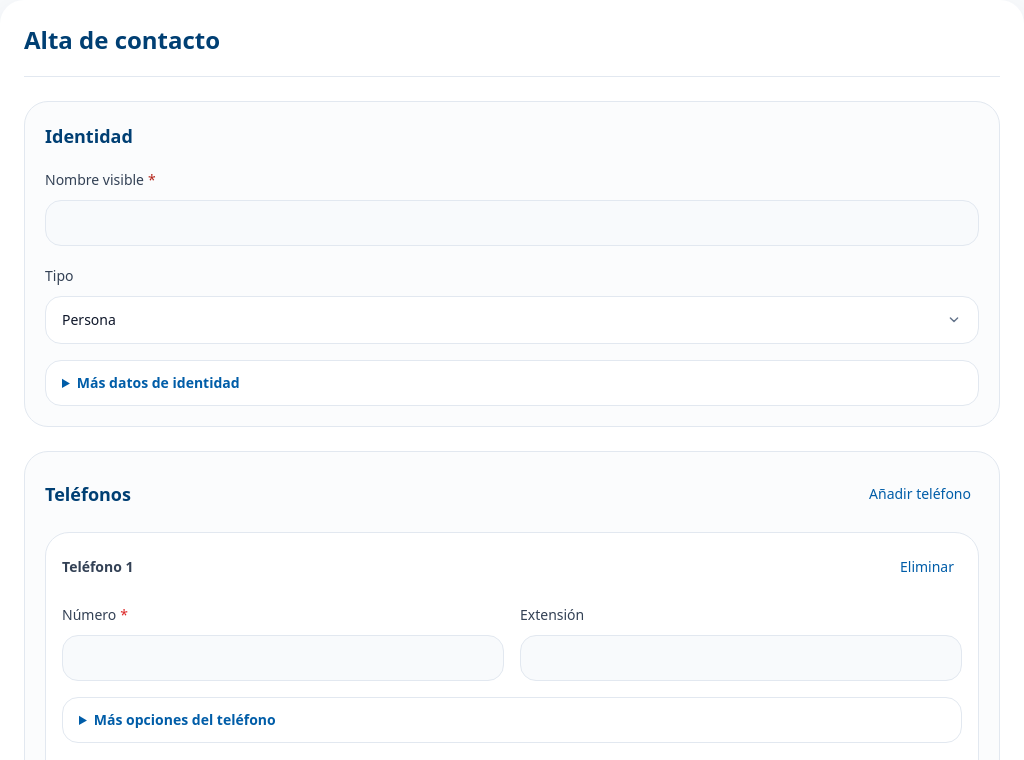
Test: RecordFormPage › keeps one primary phone when the current primary is unchecked
Check: the heading "Alta de contacto" is shown, box [24,23,220,56]
Click the button "Añadir teléfono".
click(920, 494)  # box [861,472,979,516]
(page scrolled)
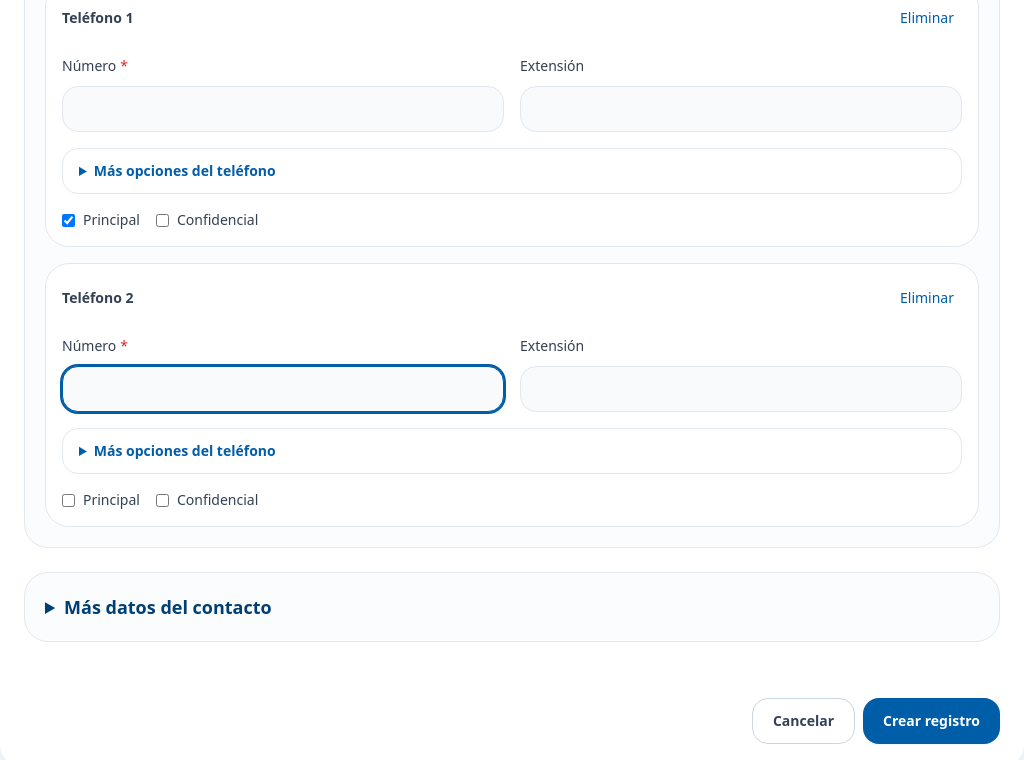
Click the 1st checkbox labelled "Principal".
click(68, 220)  # box [62,214,75,226]
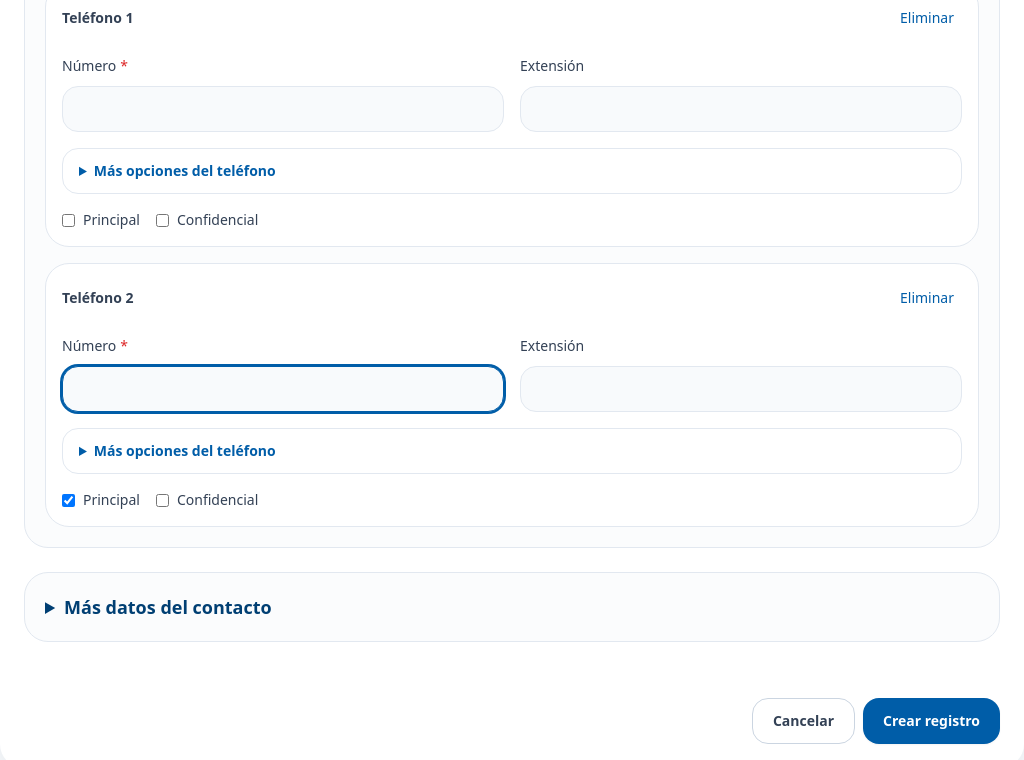
Check: the 1st checkbox labelled "Principal" is not checked, box [62,214,75,226]
Check: the 2nd checkbox labelled "Principal" is checked, box [62,494,75,506]
